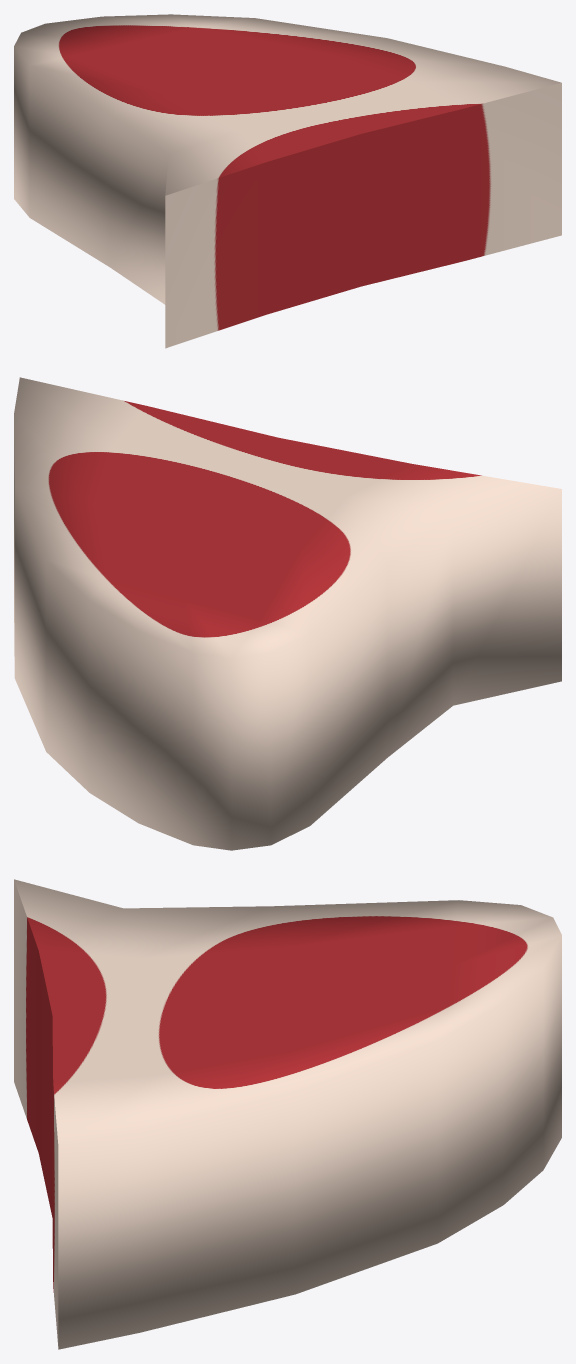
Rendered from Steak2.fbx.
3 renders of one model, top to bottom at view 1: azimuth 30°, elevation 25°; view 2: azimuth 150°, elevation 25°; view 3: azimuth 270°, elevation 25°, orthographic. The views are drawn at different scales.
Visible parts, largest first — view 1: Steak; view 2: Steak; view 3: Steak.
Boxes of the visible parts, x1,y1,x2,y2 form: Steak: (14,14,561,348); Steak: (14,377,561,850); Steak: (14,879,561,1349).
Size of the model in its own units: 286 by 101 by 248.
1 material, 1 textured.
